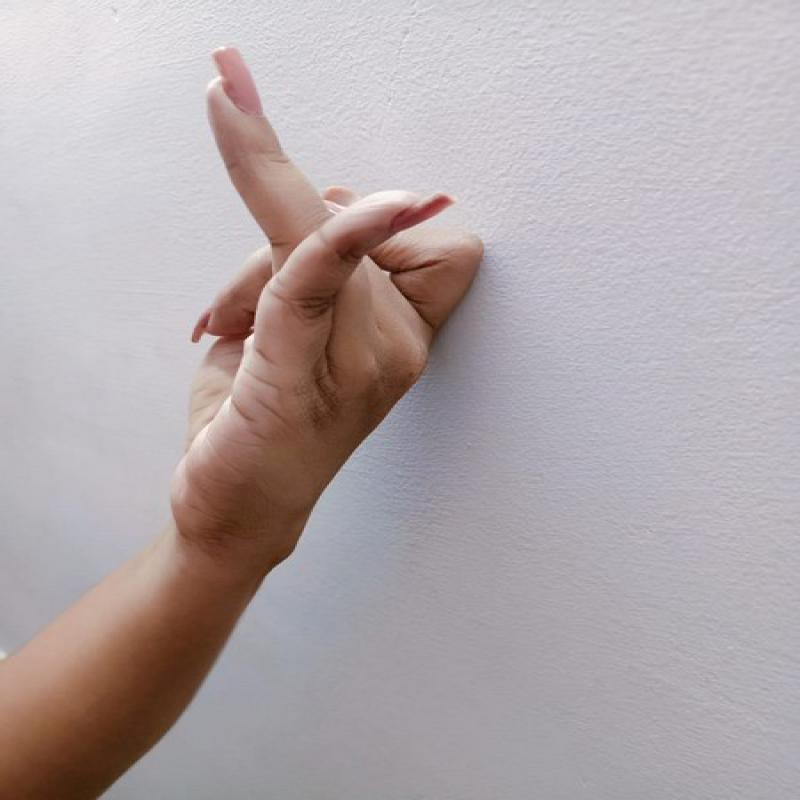Katakam: (149, 21, 499, 566)
